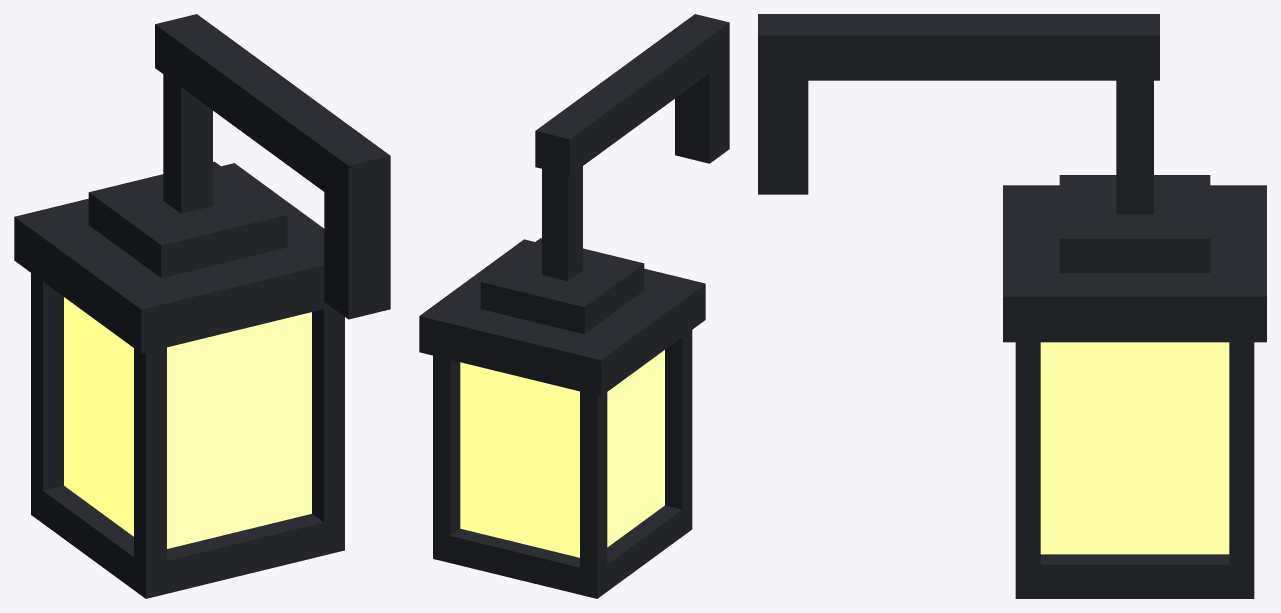
Rendered from cp-hang-lantern.glb.
The picture shows the model from 3 angles, left to right: view 1: azimuth 30°, elevation 25°; view 2: azimuth 150°, elevation 25°; view 3: azimuth 270°, elevation 25°; orthographic projection. The views are drawn at different scales.
Visible parts, largest first — view 1: box-prop; view 2: box-prop; view 3: box-prop.
Part boxes in pixels (x1=…): box-prop: x1=14, y1=14, x2=390, y2=598; box-prop: x1=419, y1=14, x2=729, y2=598; box-prop: x1=758, y1=14, x2=1266, y2=598.
Bounding box in the file's own units: 0.42 × 0.98 × 0.81.
